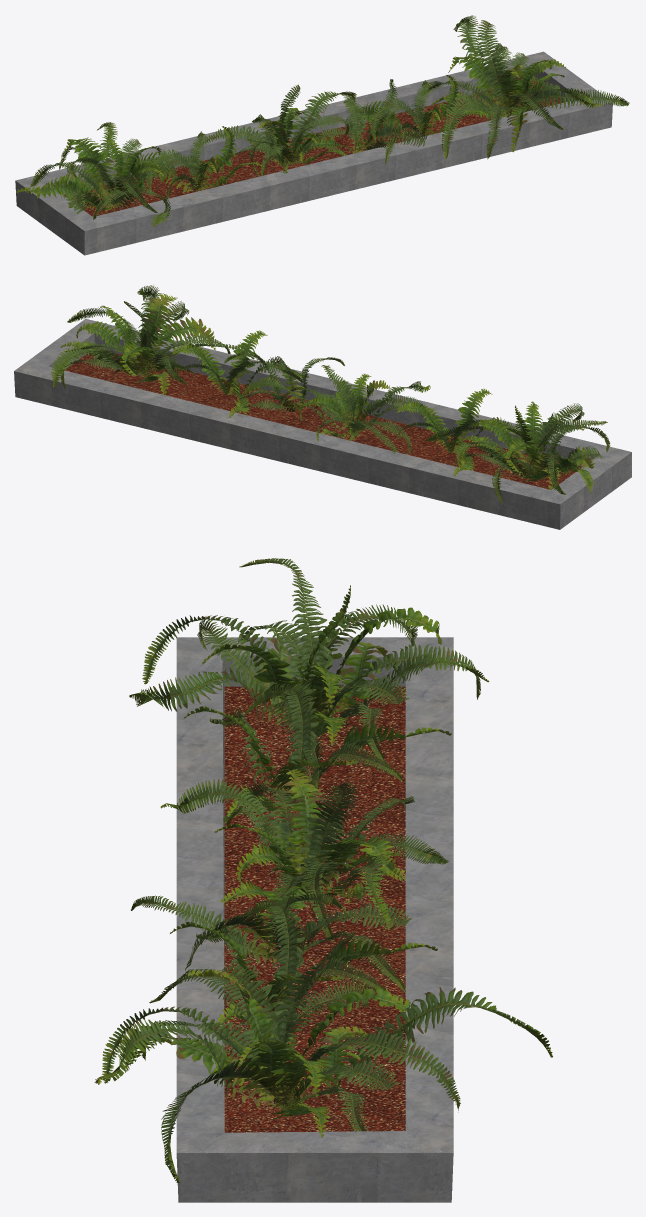
The model's file is Plant_F.glb.
3 renders of one model, top to bottom at view 1: azimuth 30°, elevation 25°; view 2: azimuth 150°, elevation 25°; view 3: azimuth 270°, elevation 25°, orthographic. The views are drawn at different scales.
Parts seen in each view (by area): view 1: Plant_F_instance.001; view 2: Plant_F_instance.001; view 3: Plant_F_instance.001.
Boxes of the visible parts, x1,y1,x2,y2 form: Plant_F_instance.001: (15,15,629,255); Plant_F_instance.001: (14,285,631,529); Plant_F_instance.001: (94,558,552,1202).
Bounding box in the file's own units: 2.8 × 0.4507 × 1.01.
3 materials, 3 textured.
